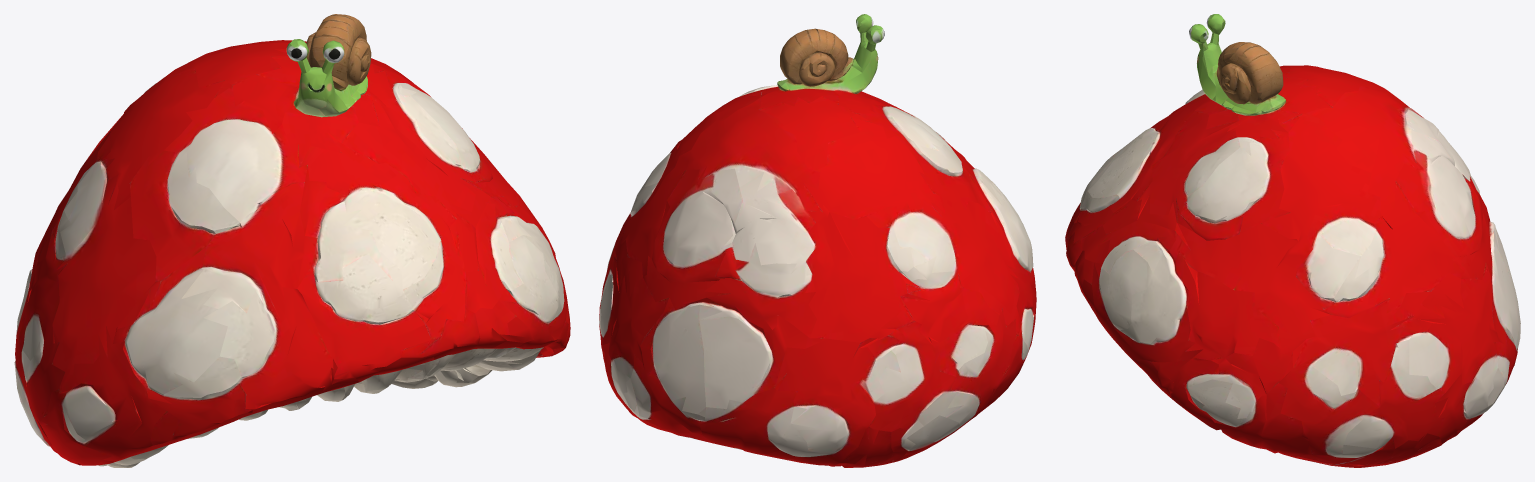
File: toadstool_cap.glb
The picture shows the model from 3 angles, left to right: view 1: azimuth 30°, elevation 25°; view 2: azimuth 150°, elevation 25°; view 3: azimuth 270°, elevation 25°; orthographic projection. The views are drawn at different scales.
Parts seen in each view (by area): view 1: Mesh_0; view 2: Mesh_0; view 3: Mesh_0.
Boxes of the visible parts, box(x1,y1,x2,y2) form: Mesh_0: box(14, 14, 570, 467); Mesh_0: box(599, 14, 1036, 467); Mesh_0: box(1065, 14, 1520, 467).
Size of the model in its own units: 1 by 0.8723 by 0.9675.
Materials: 1 (1 with a texture image).
